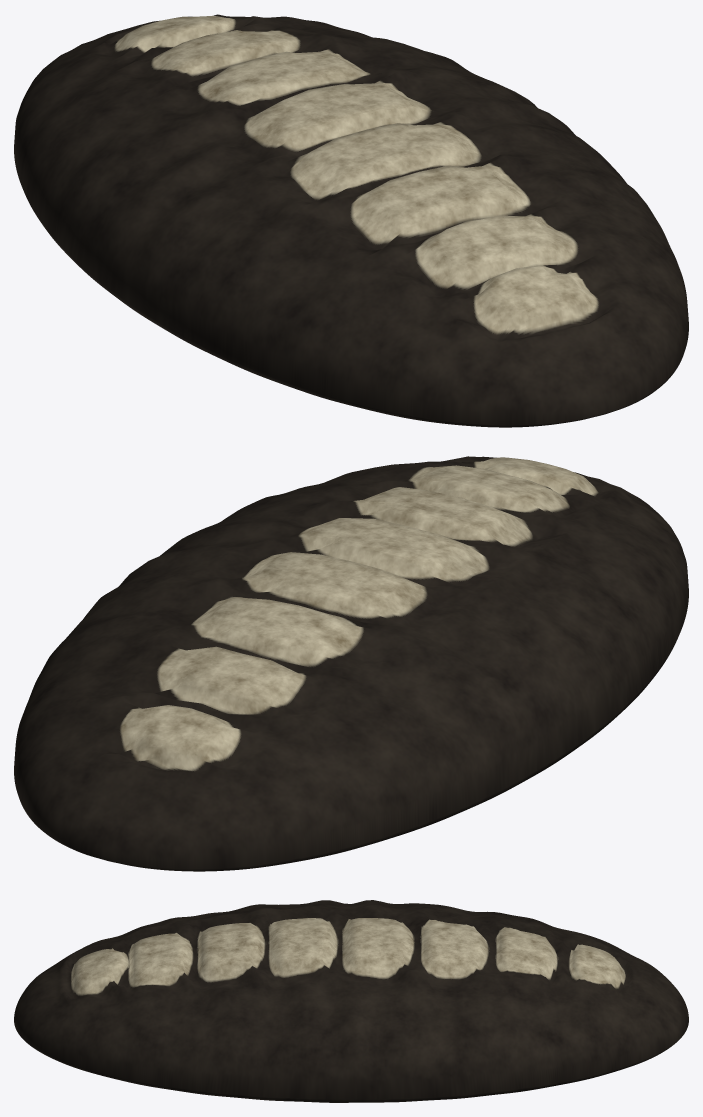
The picture shows the model from 3 angles, top to bottom: view 1: azimuth 30°, elevation 25°; view 2: azimuth 150°, elevation 25°; view 3: azimuth 270°, elevation 25°; orthographic projection. The views are drawn at different scales.
Parts seen in each view (by area): view 1: NEW658_Katharina_tunicata_single_closed_body; view 2: NEW658_Katharina_tunicata_single_closed_body; view 3: NEW658_Katharina_tunicata_single_closed_body.
Boxes of the visible parts, box(x1,y1,x2,y2) form: NEW658_Katharina_tunicata_single_closed_body: box(14, 14, 688, 427); NEW658_Katharina_tunicata_single_closed_body: box(14, 456, 688, 871); NEW658_Katharina_tunicata_single_closed_body: box(14, 900, 688, 1102).
Size of the model in its own units: 0.05 by 0.016 by 0.09.
1 material, 1 textured.
